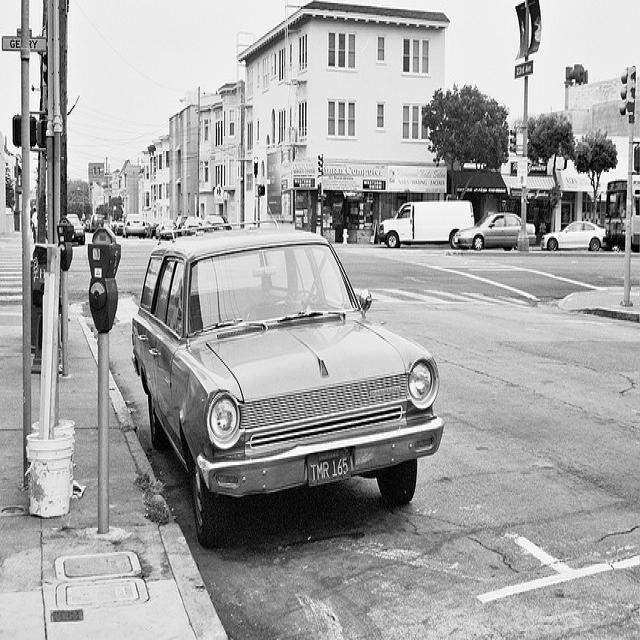Vehicle: (130, 232, 444, 548), (377, 199, 474, 250), (379, 200, 476, 249), (452, 214, 539, 253), (540, 219, 606, 253), (607, 181, 639, 251), (122, 214, 146, 240), (67, 214, 85, 245), (200, 214, 232, 230), (181, 216, 208, 230), (153, 224, 174, 239), (175, 214, 188, 230)
